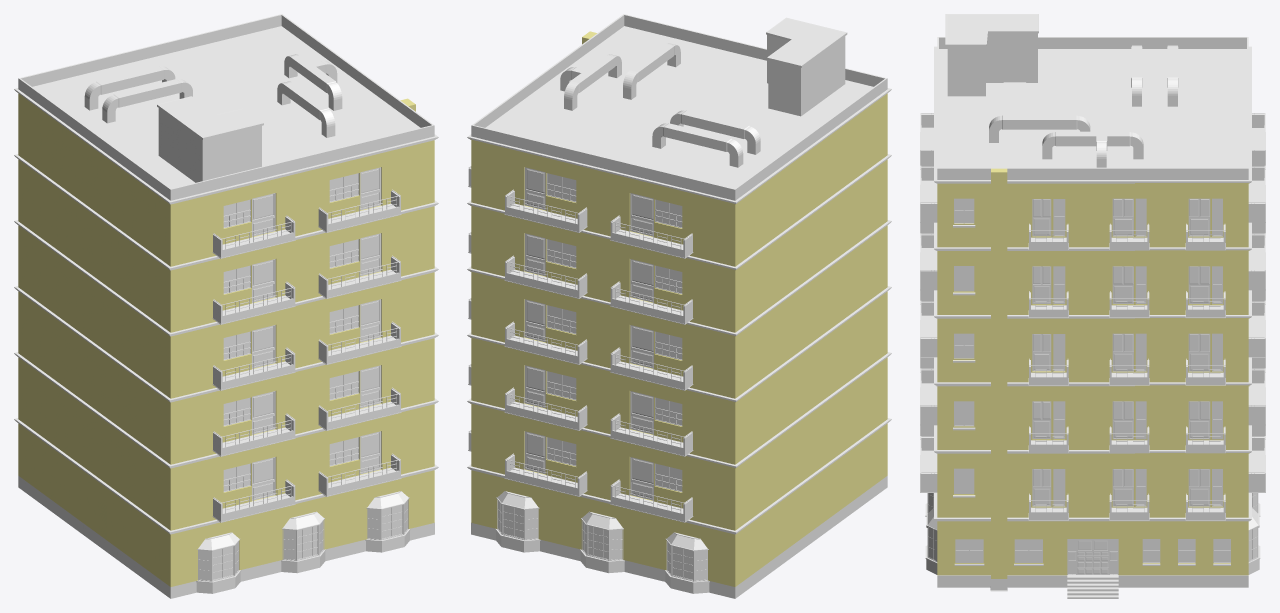
The model's file is building.glb.
3 renders of one model, left to right at view 1: azimuth 30°, elevation 25°; view 2: azimuth 150°, elevation 25°; view 3: azimuth 270°, elevation 25°, orthographic. The views are drawn at different scales.
Visible parts, largest first — view 1: Stairs; view 2: Stairs; view 3: Stairs.
Part boxes in pixels (box(x1,y1,x2,y2)): Stairs: box(14, 14, 438, 598); Stairs: box(467, 14, 891, 598); Stairs: box(920, 14, 1265, 598).
Bounding box in the file's own units: 2.2 × 3.25 × 2.22.
